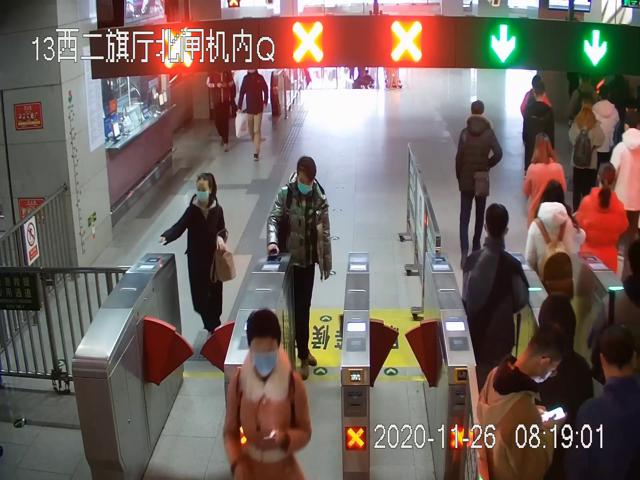person: (267, 154, 331, 381), (160, 172, 236, 339), (455, 101, 502, 264), (238, 69, 269, 161)
